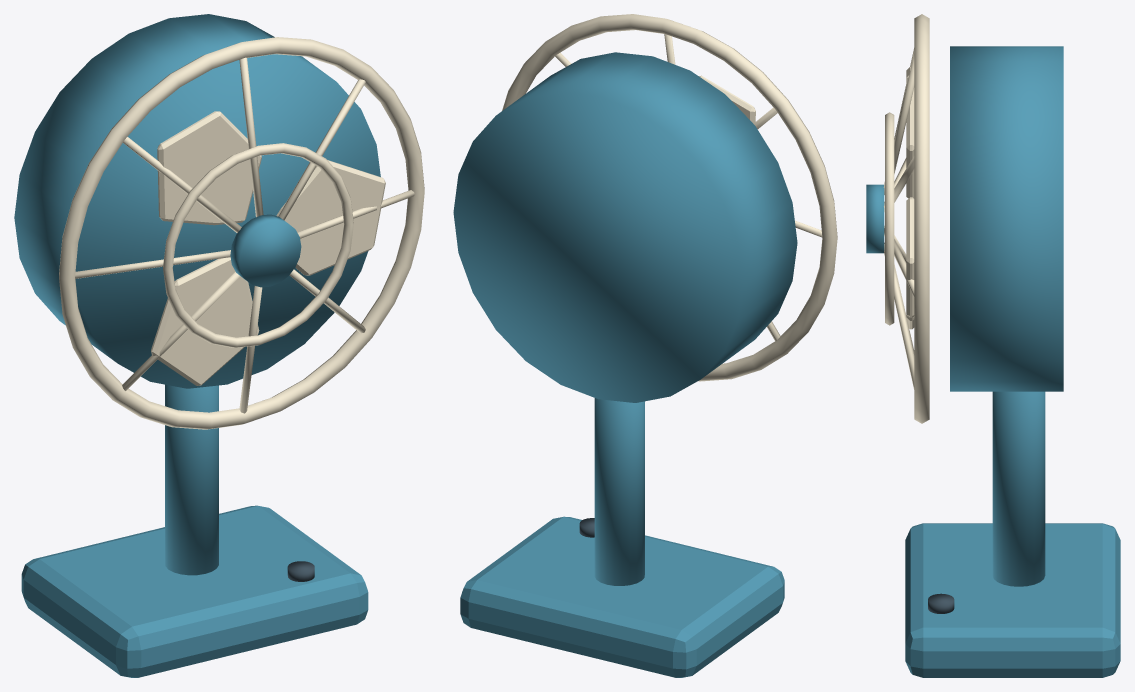
Rendered from fan.fbx.
The picture shows the model from 3 angles, left to right: view 1: azimuth 30°, elevation 25°; view 2: azimuth 150°, elevation 25°; view 3: azimuth 270°, elevation 25°; orthographic projection. The views are drawn at different scales.
Parts seen in each view (by area): view 1: Fan_BackHousing, Fan_Base, Fan_CageOuter, Fan_Stand, Fan_Blade_1, Fan_Blade_2, Fan_Blade_0, Fan_CageInner, Fan_CenterCap, Fan_Guard_02, Fan_Guard_01, Fan_Guard_04 (+5 smaller); view 2: Fan_BackHousing, Fan_Base, Fan_CageOuter, Fan_Stand; view 3: Fan_BackHousing, Fan_Base, Fan_Stand, Fan_CageOuter, Fan_CageInner, Fan_CenterCap, Fan_Blade_0, Fan_Guard_07, Fan_Blade_1, Fan_Guard_02, Fan_Switch.
Boxes of the visible parts, bbox=[...] form: Fan_BackHousing: bbox=[14, 14, 380, 388]; Fan_Base: bbox=[21, 505, 368, 677]; Fan_CageOuter: bbox=[59, 37, 424, 429]; Fan_Stand: bbox=[165, 384, 218, 575]; Fan_Blade_1: bbox=[157, 111, 261, 225]; Fan_Blade_2: bbox=[151, 257, 259, 385]; Fan_Blade_0: bbox=[276, 160, 385, 275]; Fan_CageInner: bbox=[163, 143, 353, 347]; Fan_CenterCap: bbox=[230, 214, 301, 287]; Fan_Guard_02: bbox=[239, 57, 263, 217]; Fan_Guard_01: bbox=[278, 79, 365, 220]; Fan_Guard_04: bbox=[75, 250, 230, 278]; Fan_BackHousing: bbox=[453, 52, 797, 402]; Fan_Base: bbox=[460, 516, 784, 677]; Fan_CageOuter: bbox=[502, 14, 837, 381]; Fan_Stand: bbox=[594, 398, 644, 585]; Fan_BackHousing: bbox=[950, 46, 1063, 391]; Fan_Base: bbox=[905, 523, 1120, 677]; Fan_Stand: bbox=[992, 391, 1045, 586]; Fan_CageOuter: bbox=[914, 14, 929, 423]; Fan_CageInner: bbox=[885, 112, 894, 325]; Fan_CenterCap: bbox=[866, 184, 884, 253]; Fan_Blade_0: bbox=[906, 197, 914, 317]; Fan_Guard_07: bbox=[884, 244, 914, 389]; Fan_Blade_1: bbox=[906, 66, 914, 198]; Fan_Guard_02: bbox=[883, 53, 914, 194]; Fan_Switch: bbox=[928, 593, 954, 613].
Bounding box in the file's own units: 0.343 × 0.5465 × 0.2125.
